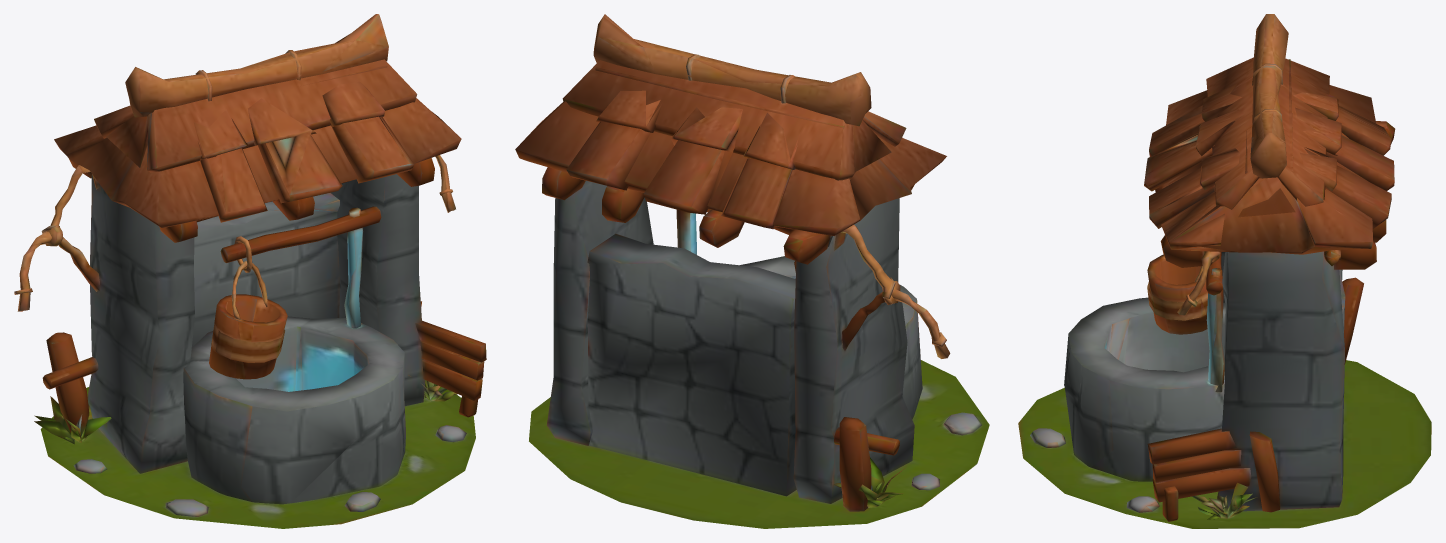
The model's file is well.glb.
3 renders of one model, left to right at view 1: azimuth 30°, elevation 25°; view 2: azimuth 150°, elevation 25°; view 3: azimuth 270°, elevation 25°, orthographic. The views are drawn at different scales.
Size of the model in its own units: 0.9502 by 0.8721 by 0.8643.
Materials: 1 (1 with a texture image).
